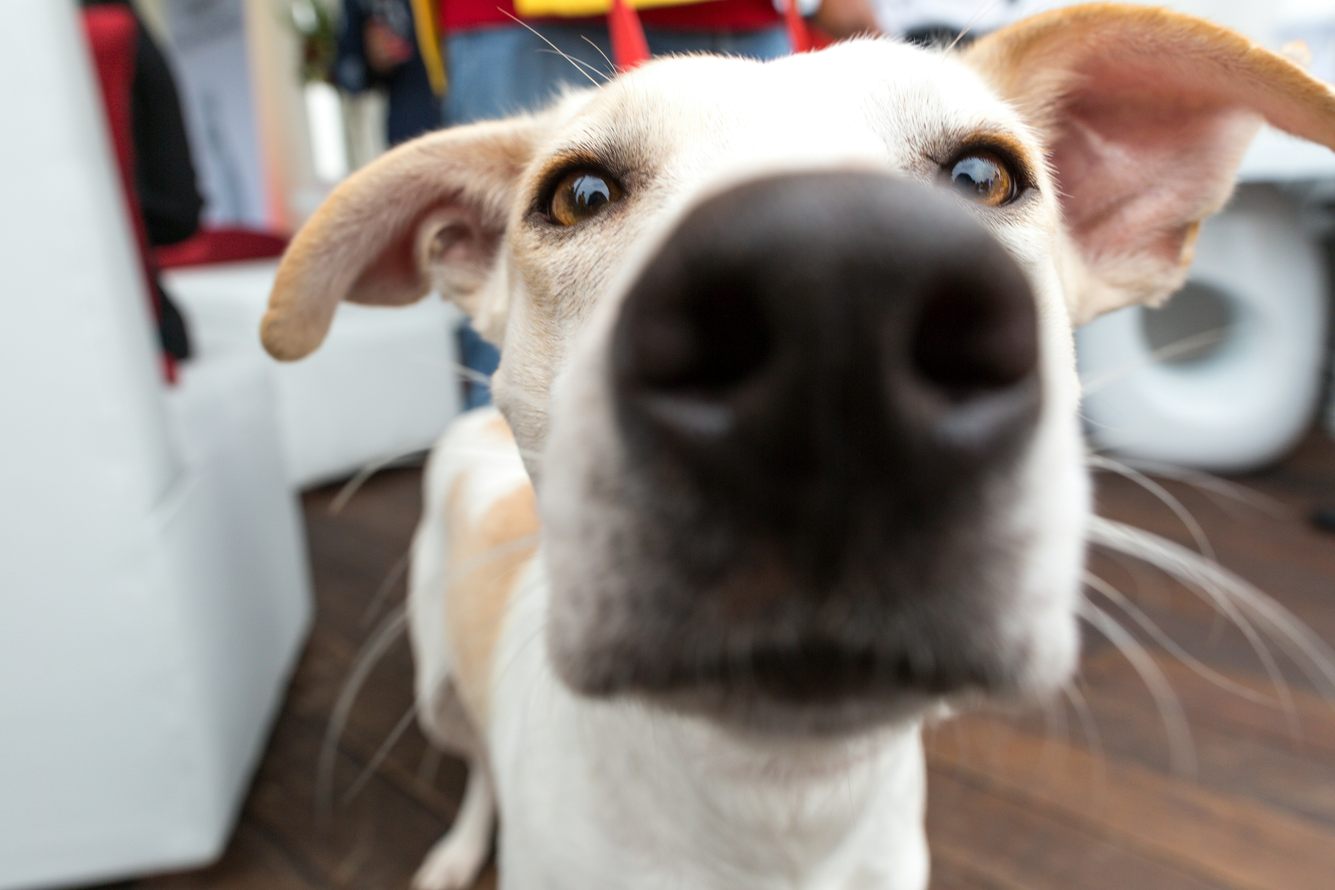dog-nose-detector: (617, 176, 1032, 581)
